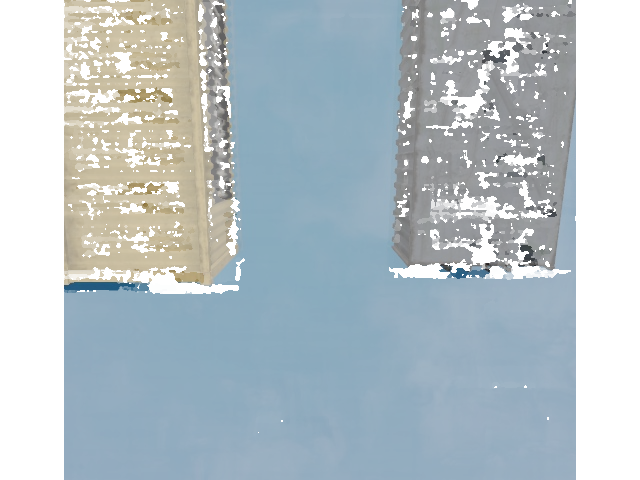container1: (393, 0, 601, 269)
container3: (15, 0, 250, 288)
